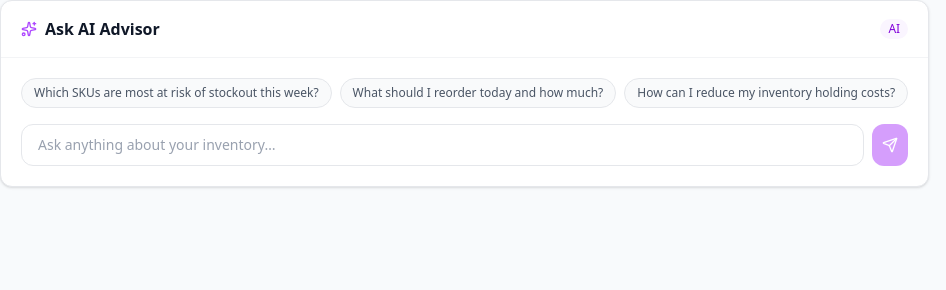
Scenario: AskAI › clicking a suggestion chip sends the question and shows response
Step 1. Click the button "What should I reorder today and how much?" → (478, 93), box [340, 78, 616, 108]
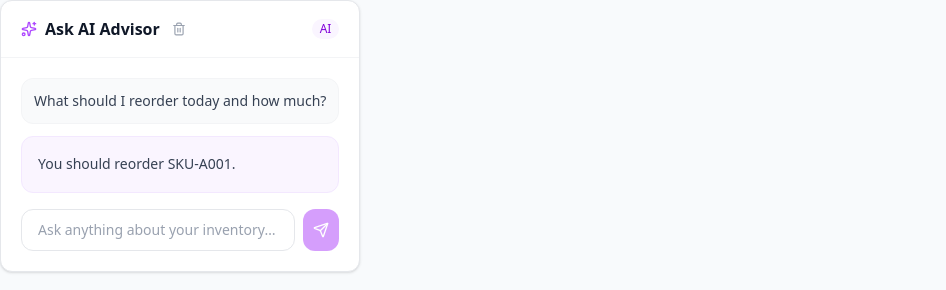
Expected: the text "You should reorder SKU-A001." is shown, [21, 136, 340, 193]
